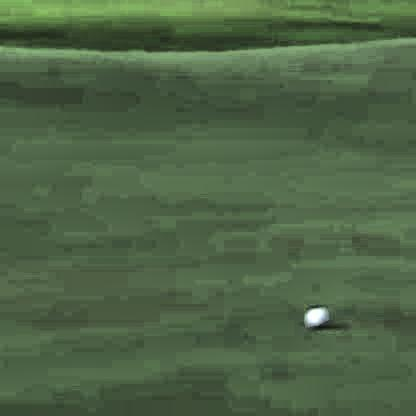golfball: (300, 304, 328, 328)
